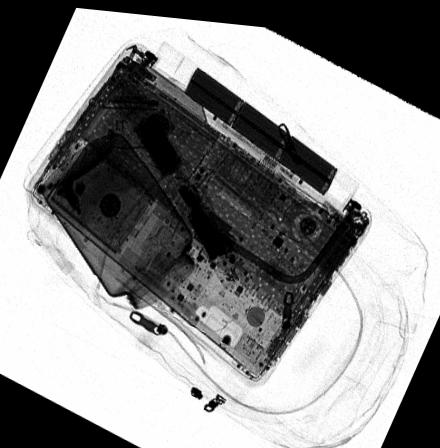Baton: (108, 67, 247, 285)
